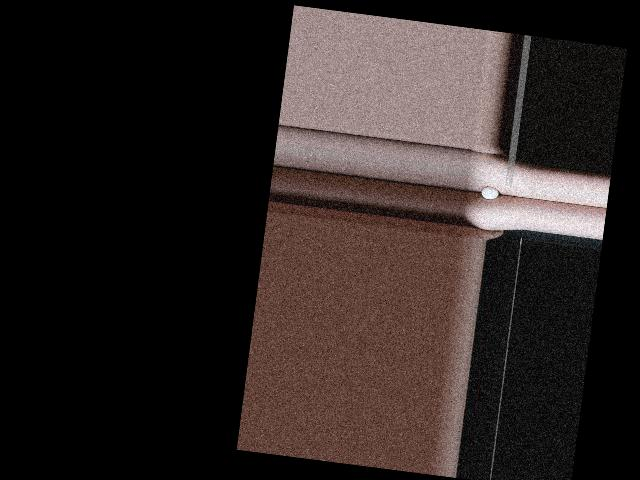egg: (481, 185, 499, 200)
